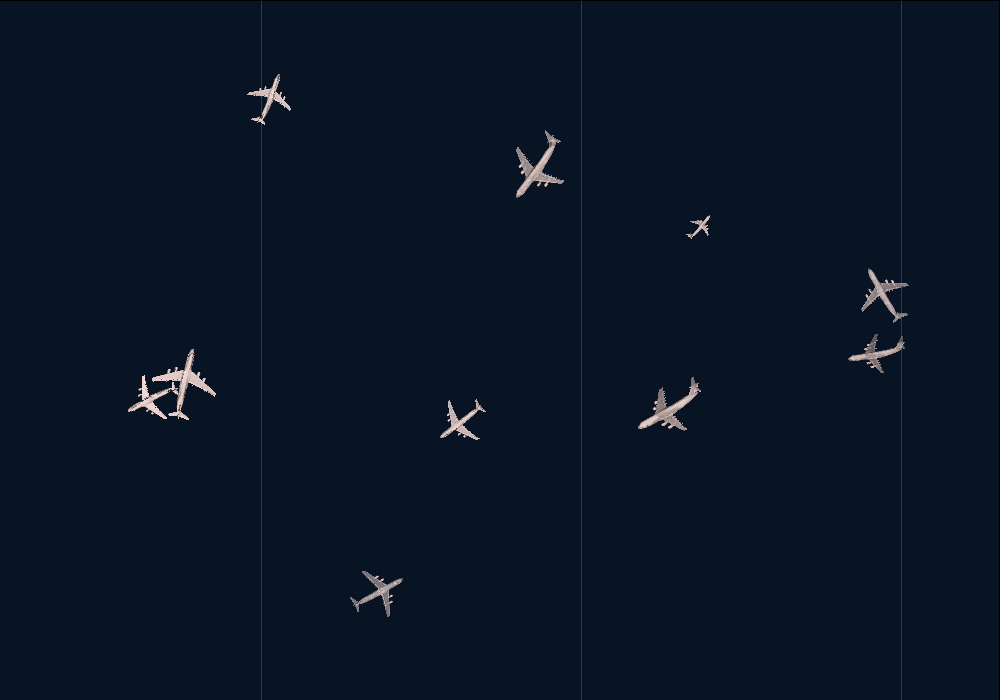plane: (486, 116, 584, 215), (620, 360, 717, 453), (142, 340, 227, 427), (844, 253, 925, 335), (339, 555, 416, 630), (115, 363, 189, 436), (424, 385, 497, 457), (235, 64, 301, 132), (843, 321, 910, 381), (678, 205, 720, 247)
